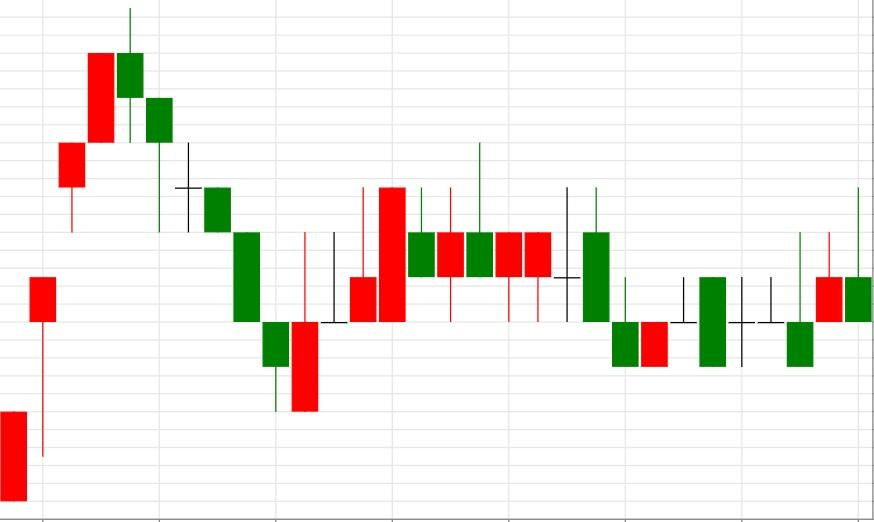bullish_engulfing_rise: (116, 7, 319, 413)
shooting_star_fall: (291, 142, 494, 412)
